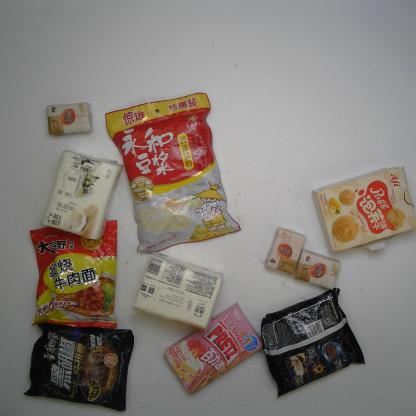Dessert: (160, 299, 264, 395), (309, 164, 415, 256)
Instant Drink: (103, 90, 244, 255)
Instant Noodles: (258, 284, 368, 401), (27, 217, 121, 332), (21, 320, 136, 412)
Tissue: (38, 147, 125, 242), (129, 249, 225, 334), (291, 246, 343, 293), (262, 224, 308, 277), (42, 99, 95, 139)
